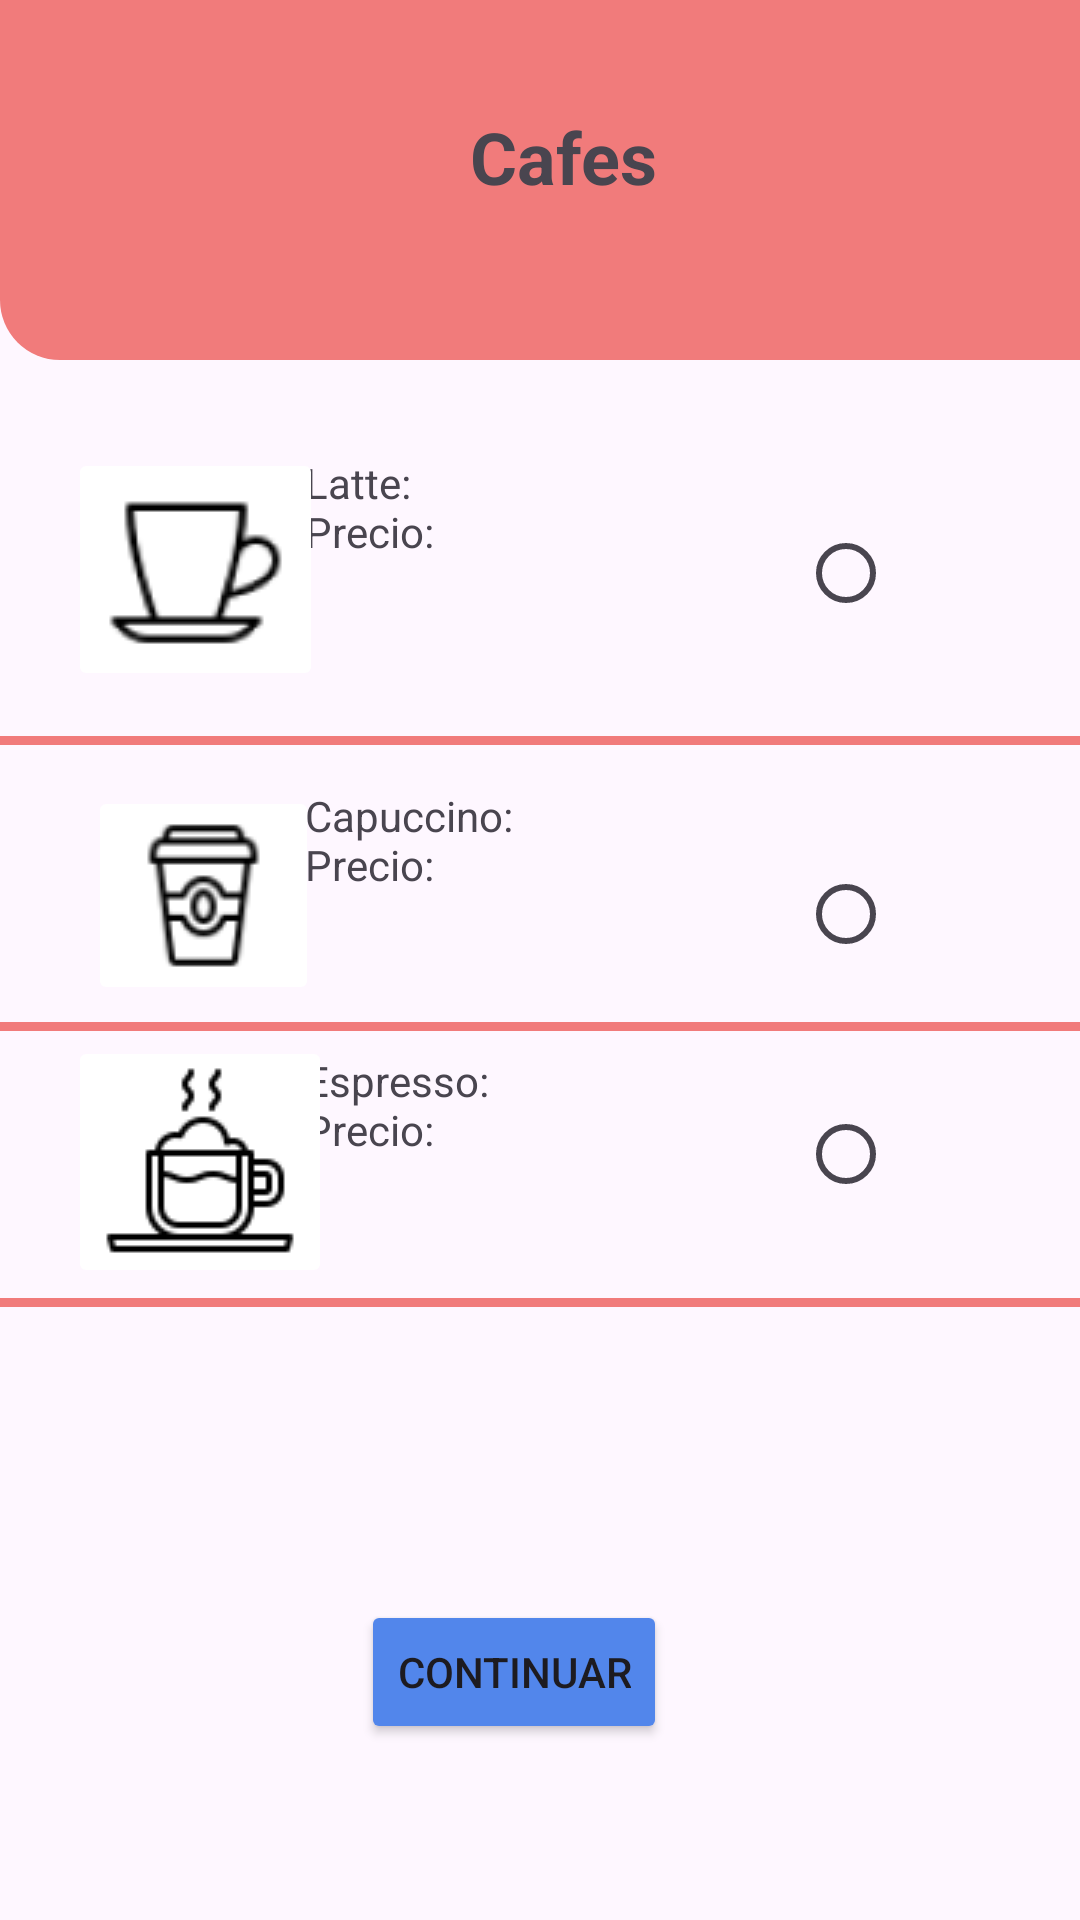

Icon bounding boxes for this 1080×1920 phone screenshot, format (x1, y1, x2, y2):
cafecerrado: (147, 824, 260, 967)
